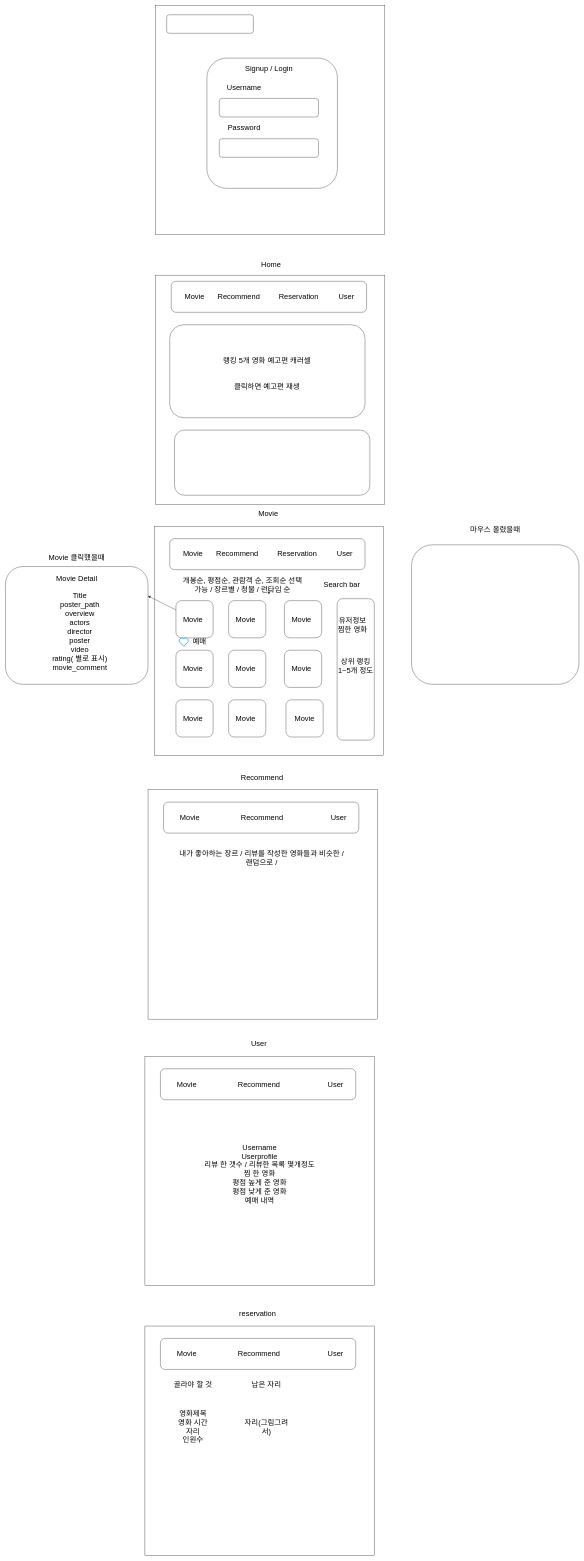
Some shapes in this 584 by 1561 pixel diagram are drawn without their labels. Here are the shapes that lost their labels. From the top down, the centre of each, then its label:
At (272,462): "영화 리스트 캐러셀로".
At (495,614): "영화제목 줄거리 평점".
